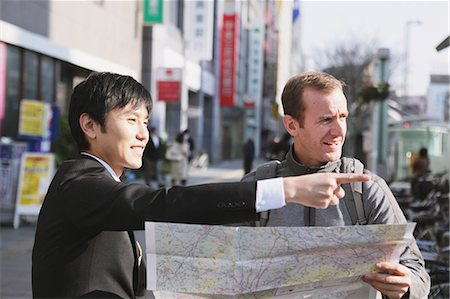pointing_gesture: (289, 170, 371, 211)
